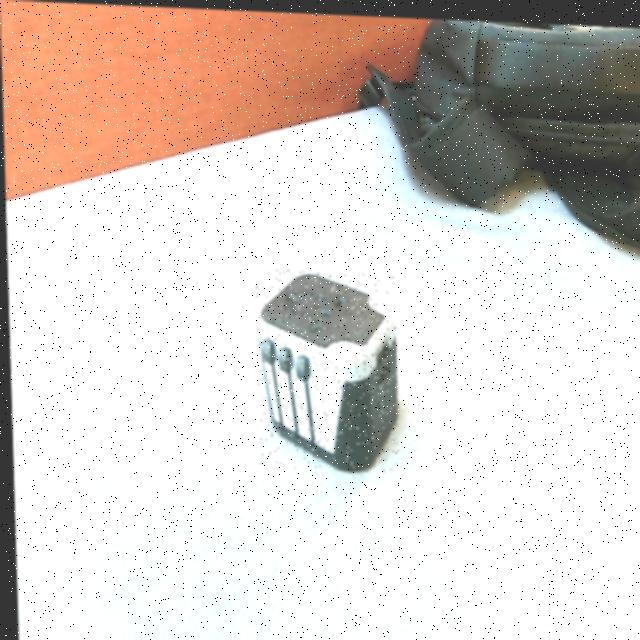adapter: (252, 266, 398, 470)
